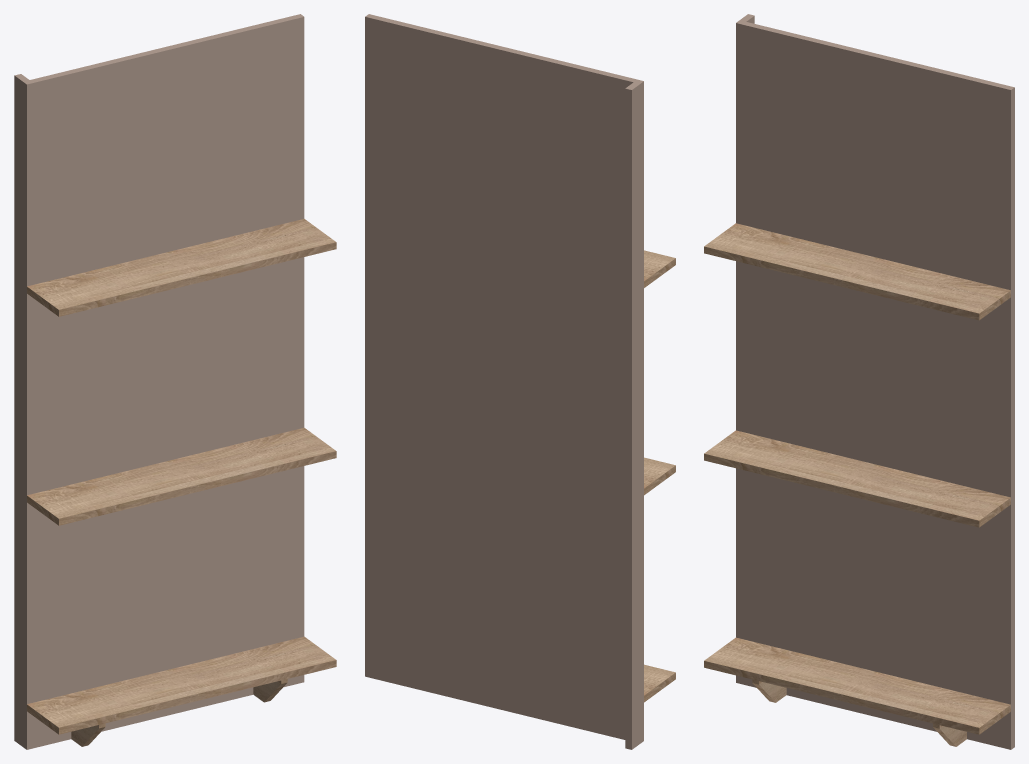
The model's file is CSOTAK.glb.
3 views of the same model, side by side, from view 1: azimuth 30°, elevation 25°; view 2: azimuth 150°, elevation 25°; view 3: azimuth 330°, elevation 25° (orthographic).
Visible parts, largest first — view 1: 3DGeom-163, 3DGeom-150, 3DGeom-160, 3DGeom-152, 3DGeom-157, 3DGeom-162, 3DGeom-161, 3DGeom-151, 3DGeom-153; view 2: 3DGeom-163, 3DGeom-157, 3DGeom-162, 3DGeom-160, 3DGeom-152, 3DGeom-150; view 3: 3DGeom-163, 3DGeom-152, 3DGeom-160, 3DGeom-150, 3DGeom-162, 3DGeom-153, 3DGeom-151, 3DGeom-161.
Boxes of the visible parts, x1,y1,x2,y2 form: 3DGeom-163: (27,17,304,749); 3DGeom-150: (27,636,335,734); 3DGeom-160: (27,427,335,525); 3DGeom-152: (27,218,335,316); 3DGeom-157: (14,75,22,746); 3DGeom-162: (23,14,303,749); 3DGeom-161: (59,451,336,525); 3DGeom-151: (59,660,336,734); 3DGeom-153: (59,242,336,316); 3DGeom-163: (365,17,633,739); 3DGeom-157: (625,84,640,749); 3DGeom-162: (365,14,643,743); 3DGeom-160: (644,457,675,495); 3DGeom-152: (644,250,675,287); 3DGeom-150: (644,664,675,702); 3DGeom-163: (736,23,1010,749); 3DGeom-152: (704,223,1010,313); 3DGeom-160: (704,430,1010,520); 3DGeom-150: (704,637,1010,727); 3DGeom-162: (736,20,1014,749); 3DGeom-153: (704,246,1010,320); 3DGeom-151: (704,661,1010,734); 3DGeom-161: (704,453,1010,527).
Bounding box in the file's own units: 0.75 × 1.72 × 0.208.
4 materials, 4 textured.
